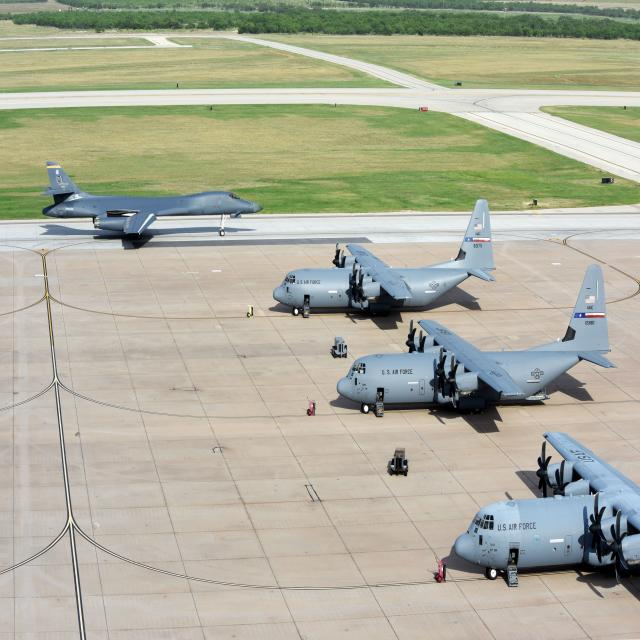MIL_Plane: (334, 263, 616, 413), (454, 433, 640, 581), (0, 198, 177, 316), (0, 164, 200, 235)
